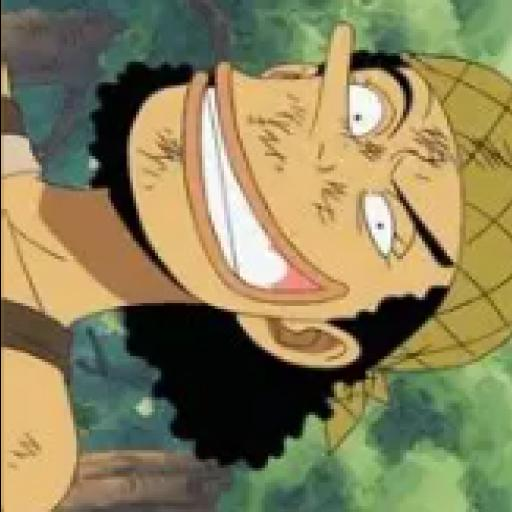Usopp: (1, 19, 511, 512)
